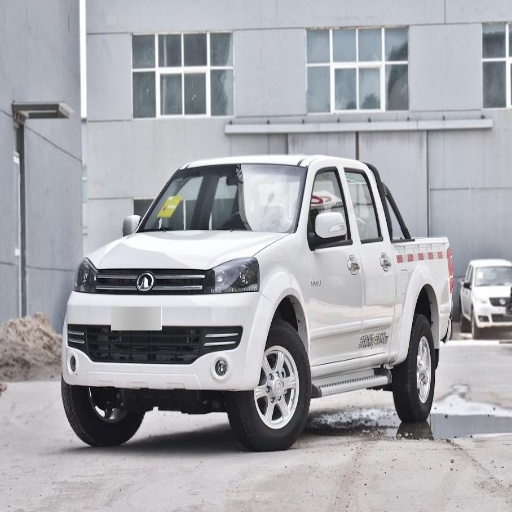front_bumper: (62, 267, 275, 391)
front_glass: (135, 164, 305, 230)
front_left_door: (306, 165, 362, 365)
trunk: (392, 239, 456, 357)
